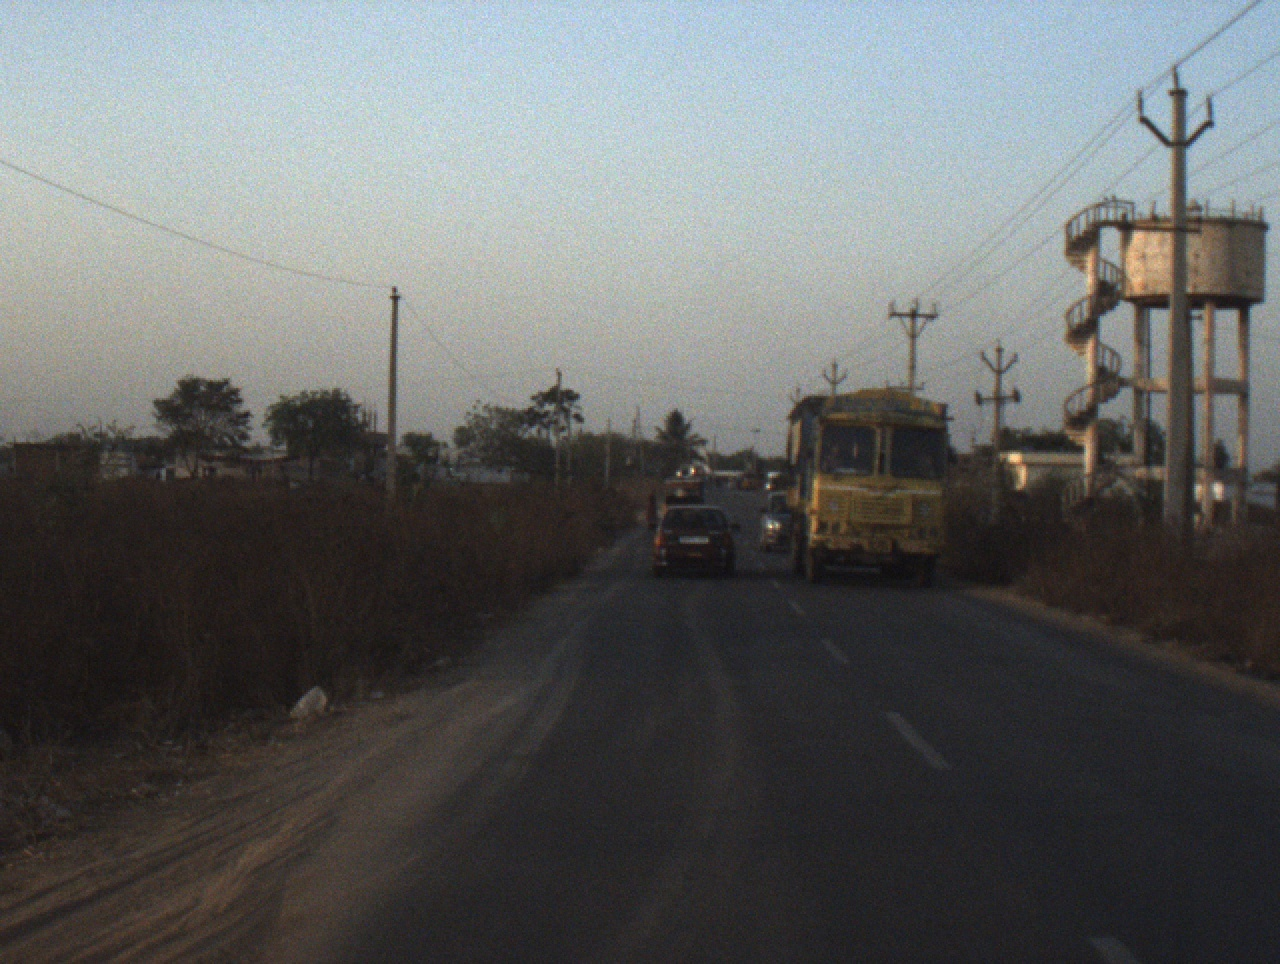autorickshaw: (738, 474, 755, 494)
car: (649, 504, 739, 584), (754, 489, 794, 554), (662, 462, 706, 509)
person: (646, 487, 659, 531)
truck: (789, 387, 961, 587), (765, 471, 786, 491)
